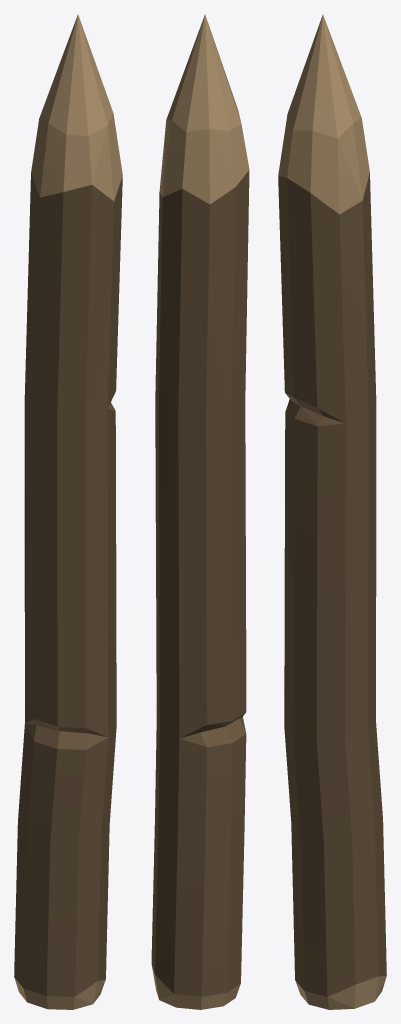
Rendered from Espiga_01.glb.
The picture shows the model from 3 angles, left to right: view 1: azimuth 90°, elevation 25°; view 2: azimuth 150°, elevation 25°; view 3: azimuth 270°, elevation 25°; orthographic projection.
Parts seen in each view (by area): view 1: SM_Prop_Wood_Sharp_01; view 2: SM_Prop_Wood_Sharp_01; view 3: SM_Prop_Wood_Sharp_01.
Boxes of the visible parts, x1,y1,x2,y2 form: SM_Prop_Wood_Sharp_01: (14,14,122,1009); SM_Prop_Wood_Sharp_01: (151,14,249,1009); SM_Prop_Wood_Sharp_01: (278,14,386,1009).
Bounding box in the file's own units: 0.3155 × 3.78 × 0.3769.
Materials: 1 (1 with a texture image).
